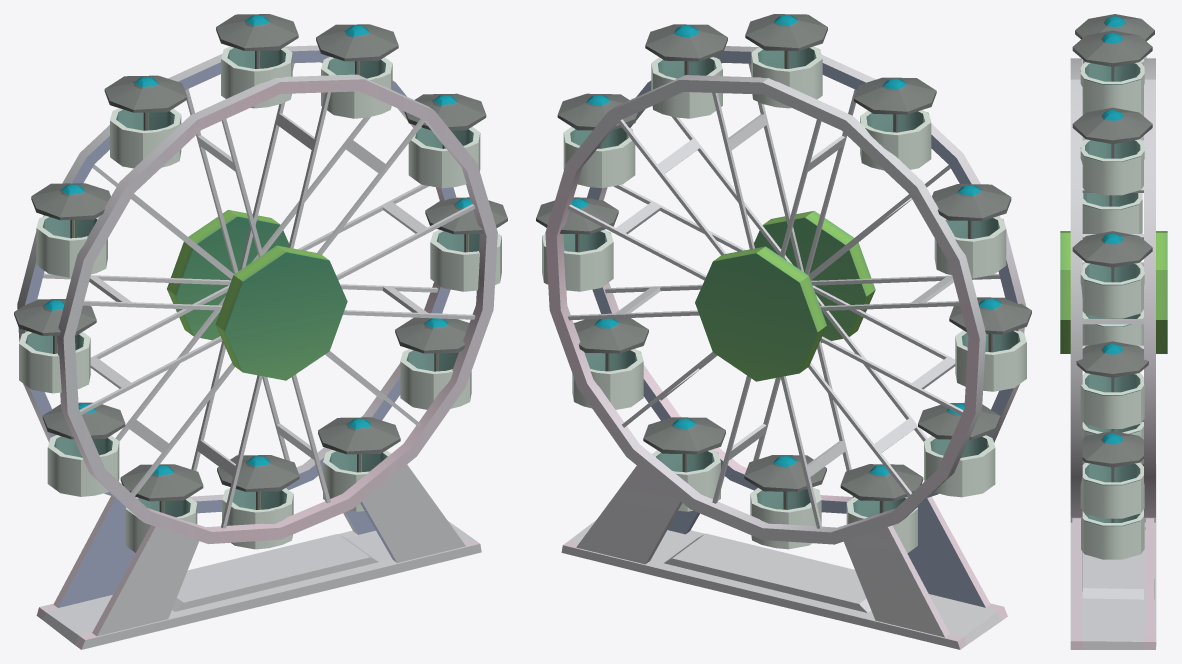
File: MODEL_Ferris_Wheel.fbx
3 renders of one model, left to right at view 1: azimuth 30°, elevation 25°; view 2: azimuth 150°, elevation 25°; view 3: azimuth 270°, elevation 25°, orthographic. The views are drawn at different scales.
Visible parts, largest first — view 1: Ferris_Supports, OuterCap1, OuterCap, Cart12, Cart6, Cart11, Cart5, Cart2, Cart10, Cart9, Cart4, Cart7 (+3 smaller); view 2: Ferris_Supports, OuterCap, OuterCap1, Cart12, Cart6, Cart11, Cart5, Cart2, Cart4, Cart10, Cart9, Cart7 (+3 smaller); view 3: Ferris_Supports, Cart5, Cart4, Cart3, Cart2, Cart6, Cart1, Cart10, OuterCap, Cart9, OuterCap1, Cart12 (+1 smaller).
Boxes of the visible parts, x1,y1,x2,y2 form: Ferris_Supports: (17, 45, 497, 649); OuterCap1: (215, 245, 347, 380); OuterCap: (167, 210, 288, 341); Cart12: (104, 75, 187, 168); Cart6: (216, 14, 298, 108); Cart11: (31, 183, 110, 277); Cart5: (316, 24, 398, 118); Cart2: (395, 317, 471, 409); Cart10: (14, 299, 96, 393); Cart9: (42, 402, 125, 496); Cart4: (404, 93, 486, 188); Cart7: (217, 455, 299, 549); Ferris_Supports: (545, 46, 1025, 649); OuterCap: (695, 246, 826, 381); OuterCap1: (754, 211, 875, 342); Cart12: (854, 77, 936, 170); Cart6: (745, 14, 827, 108); Cart11: (932, 184, 1011, 278); Cart5: (645, 24, 727, 118); Cart2: (572, 318, 648, 409); Cart4: (557, 93, 639, 188); Cart10: (949, 297, 1031, 391); Cart9: (918, 403, 1000, 497); Cart7: (744, 455, 826, 549); Ferris_Supports: (1070, 58, 1156, 649); Cart5: (1072, 107, 1152, 195); Cart4: (1072, 231, 1152, 318); Cart3: (1076, 341, 1148, 428); Cart2: (1080, 431, 1144, 518); Cart6: (1072, 30, 1152, 112); Cart1: (1081, 509, 1144, 559); Cart10: (1082, 193, 1142, 233); OuterCap: (1156, 231, 1167, 353); Cart9: (1082, 309, 1143, 345); OuterCap1: (1060, 231, 1070, 353); Cart12: (1075, 14, 1154, 65).
Bounding box in the file's own units: 21.3 × 23.91 × 4.42.
1 material, 1 textured.
